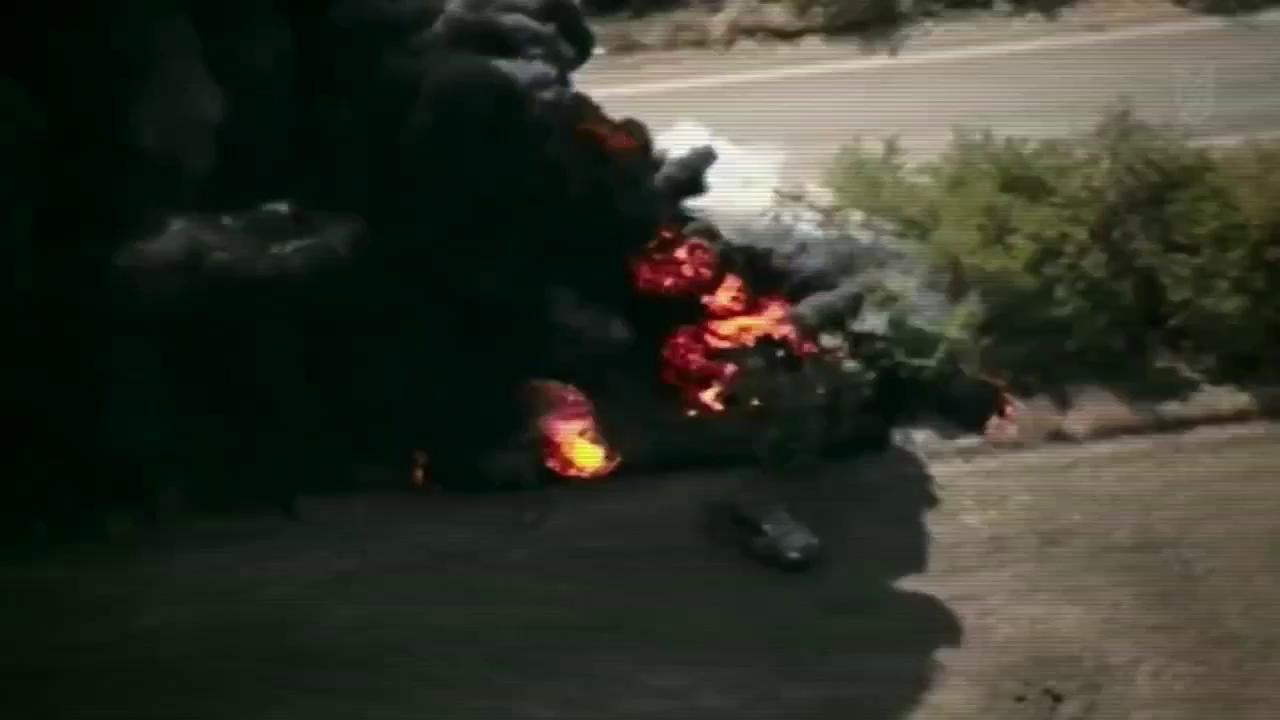tank: (709, 476, 829, 582)
